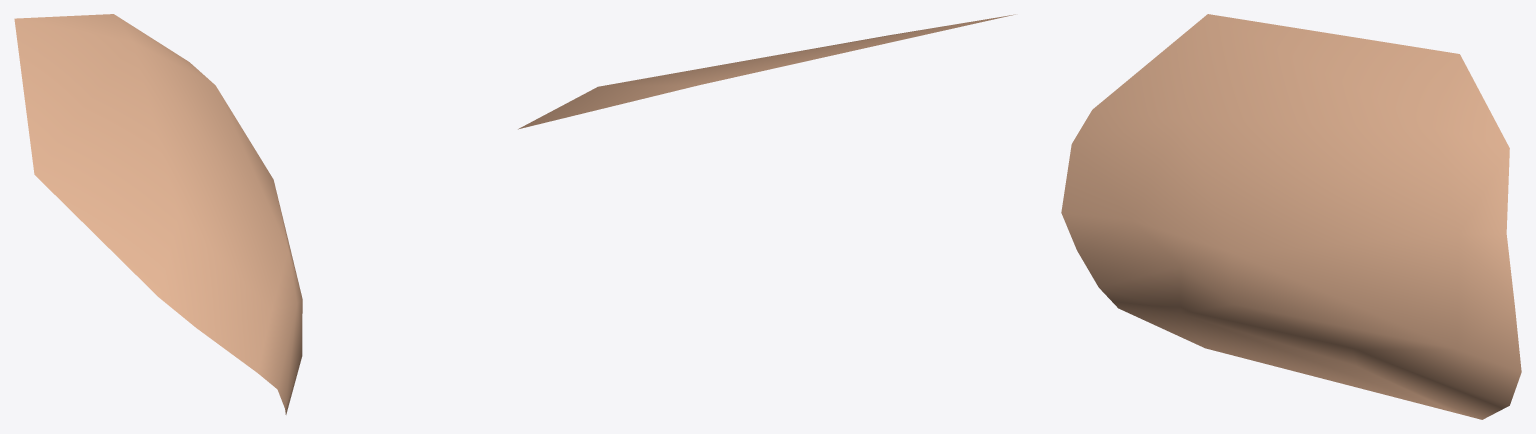
Rendered from apex-of-auricle-l.glb.
3 views of the same model, side by side, from view 1: azimuth 30°, elevation 25°; view 2: azimuth 150°, elevation 25°; view 3: azimuth 270°, elevation 25° (orthographic). The views are drawn at different scales.
Parts seen in each view (by area): view 1: Apex of auricle.l; view 2: Apex of auricle.l; view 3: Apex of auricle.l.
Boxes of the visible parts, bbox=[...] form: Apex of auricle.l: bbox=[14, 14, 302, 414]; Apex of auricle.l: bbox=[518, 14, 1015, 129]; Apex of auricle.l: bbox=[1061, 14, 1521, 419].
Size of the model in its own units: 0.00488 by 0.0038 by 0.00557.
